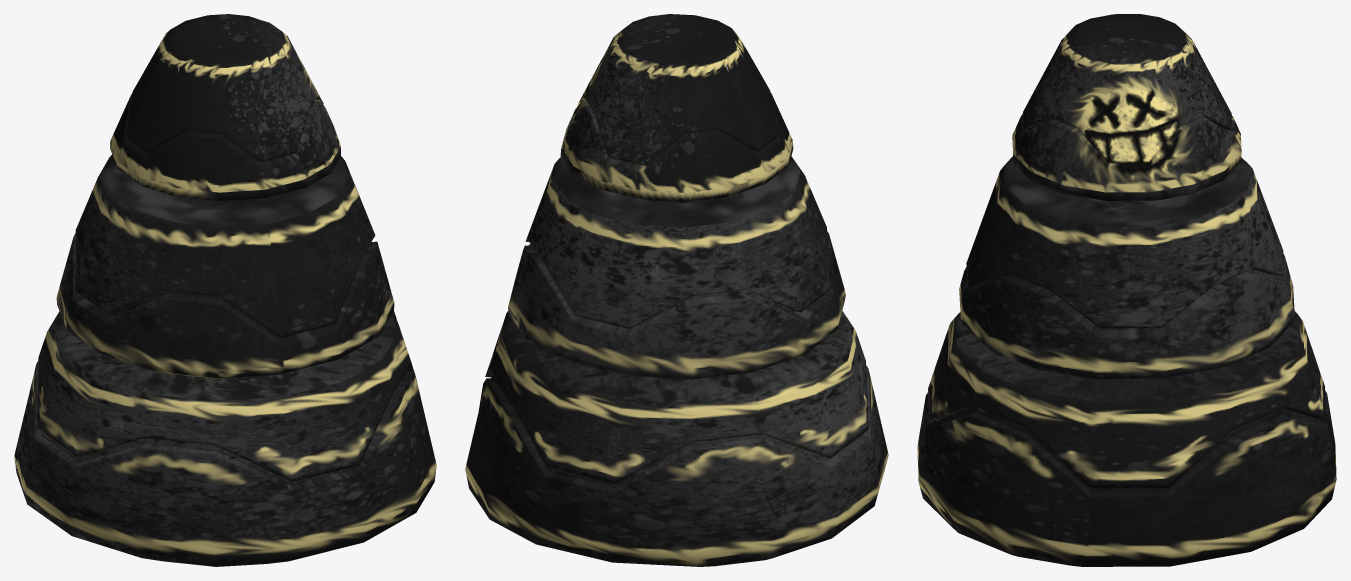
The model's file is enemy1.fbx.
The picture shows the model from 3 angles, left to right: view 1: azimuth 30°, elevation 25°; view 2: azimuth 150°, elevation 25°; view 3: azimuth 270°, elevation 25°; orthographic projection.
Parts seen in each view (by area): view 1: Circle; view 2: Circle; view 3: Circle.
Part boxes in pixels (box(x1,y1,x2,y2)): Circle: box(14, 14, 436, 566); Circle: box(465, 14, 888, 566); Circle: box(917, 14, 1336, 566).
Bounding box in the file's own units: 179 × 213 × 179.
